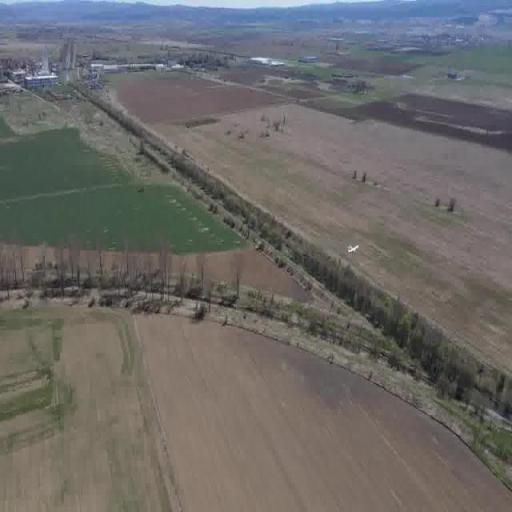uav: (342, 240, 362, 257)
